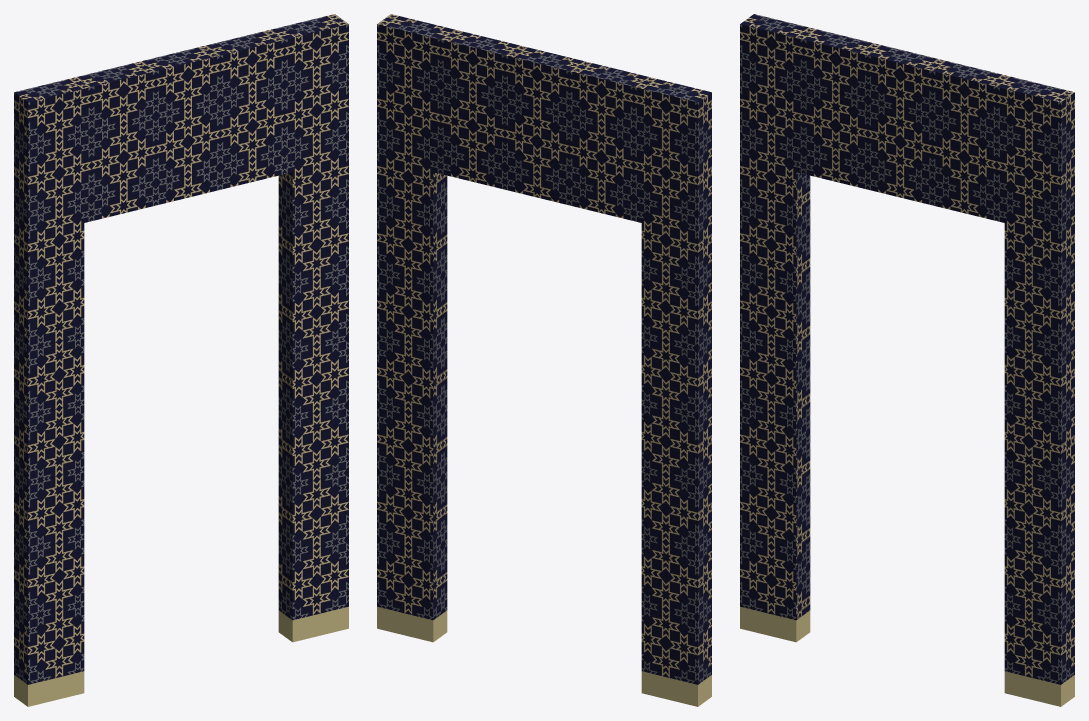
The model's file is ARC0210011.fbx.
3 views of the same model, side by side, from view 1: azimuth 30°, elevation 25°; view 2: azimuth 150°, elevation 25°; view 3: azimuth 330°, elevation 25° (orthographic).
Parts seen in each view (by area): view 1: smARC0210011; view 2: smARC0210011; view 3: smARC0210011.
Part boxes in pixels (<box>): smARC0210011: <box>14,14,348,706</box>; smARC0210011: <box>377,14,711,706</box>; smARC0210011: <box>740,14,1074,706</box>.
Size of the model in its own units: 182 by 328 by 13.67.
1 material, 1 textured.
